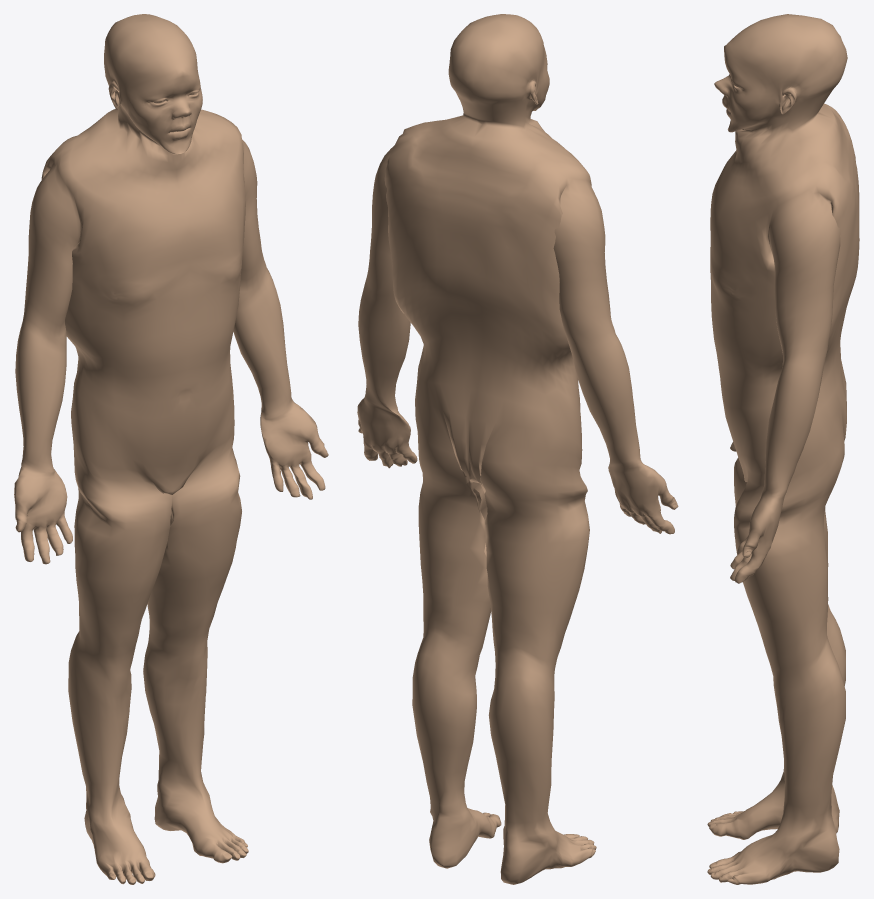
File: skin-candidate-f2c3.glb
The picture shows the model from 3 angles, left to right: view 1: azimuth 30°, elevation 25°; view 2: azimuth 150°, elevation 25°; view 3: azimuth 270°, elevation 25°; orthographic projection. The views are drawn at different scales.
Visible parts, largest first — view 1: MakeHuman_AT10_skin_fit_candidate_f2c3; view 2: MakeHuman_AT10_skin_fit_candidate_f2c3; view 3: MakeHuman_AT10_skin_fit_candidate_f2c3.
Part boxes in pixels (box(x1,y1,x2,y2)): MakeHuman_AT10_skin_fit_candidate_f2c3: box(14, 14, 328, 884); MakeHuman_AT10_skin_fit_candidate_f2c3: box(357, 14, 678, 884); MakeHuman_AT10_skin_fit_candidate_f2c3: box(707, 14, 859, 884).
Bounding box in the file's own units: 0.6758 × 1.71 × 0.2826.
